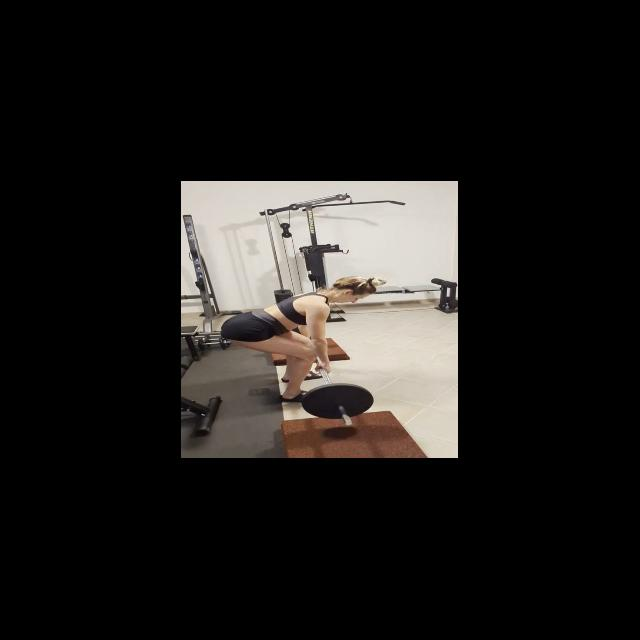barbell: (299, 381, 377, 429)
